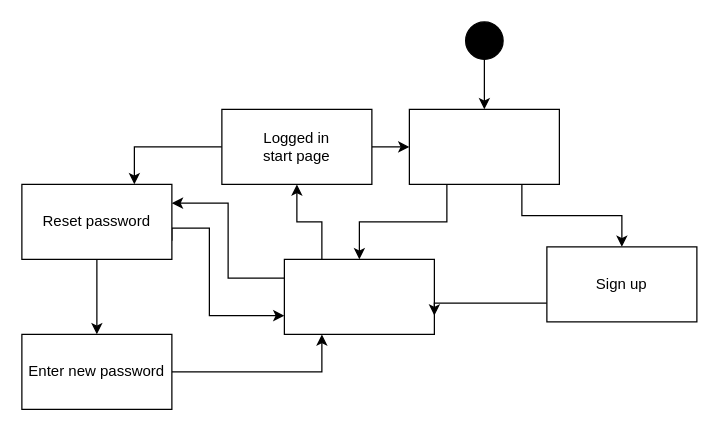
This 719x431 diagram has some shape labels left out. The centre of each missing label's shape, as x and y in pixels:
"Log in" belongs at (x=358, y=296).
"Start page" belongs at (x=483, y=146).
